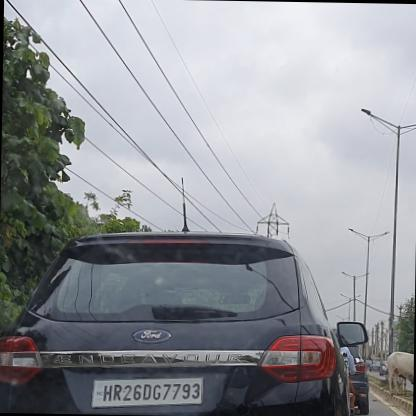car: (0, 229, 374, 415), (344, 346, 373, 414)
